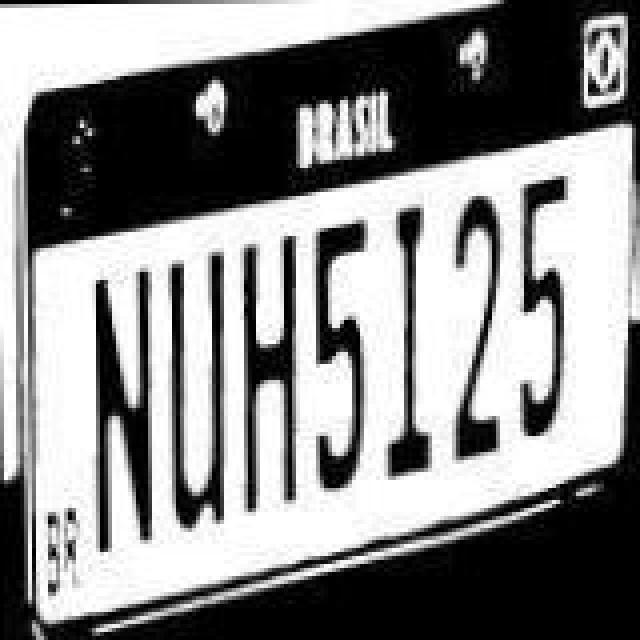2: (442, 172, 518, 456)
5: (308, 198, 380, 482), (518, 158, 586, 426)
H: (234, 216, 310, 504)
I: (378, 182, 446, 470)
N: (88, 254, 164, 562)
U: (160, 232, 236, 532)
